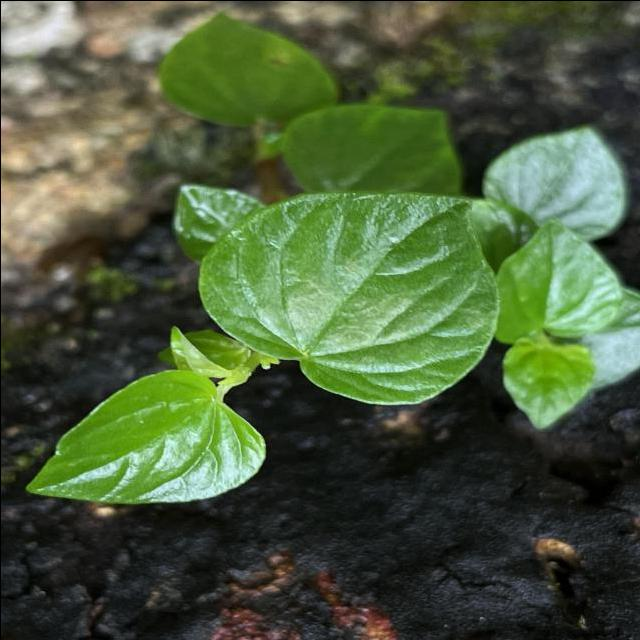Peperomia pellucida: (194, 188, 500, 406), (22, 367, 270, 506)
